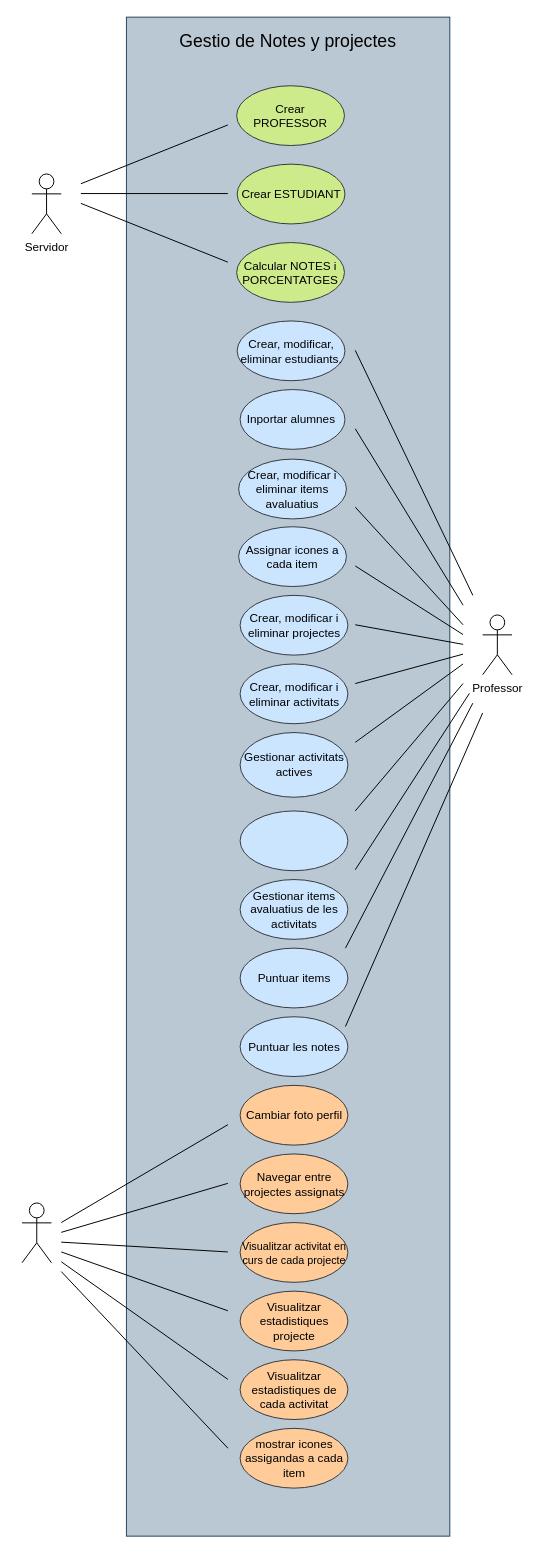
The diagram is 539 pixels wide and 1553 high, and some of its shapes have lost their labels. The shapes that lost their labels are listed below. From the top down, each one's box as (x1, y1, x2, y2) in pixels, then its label:
(239, 810, 348, 871): Gestionar items avaluatius dels projectes
(21, 1202, 51, 1263): Alumno
